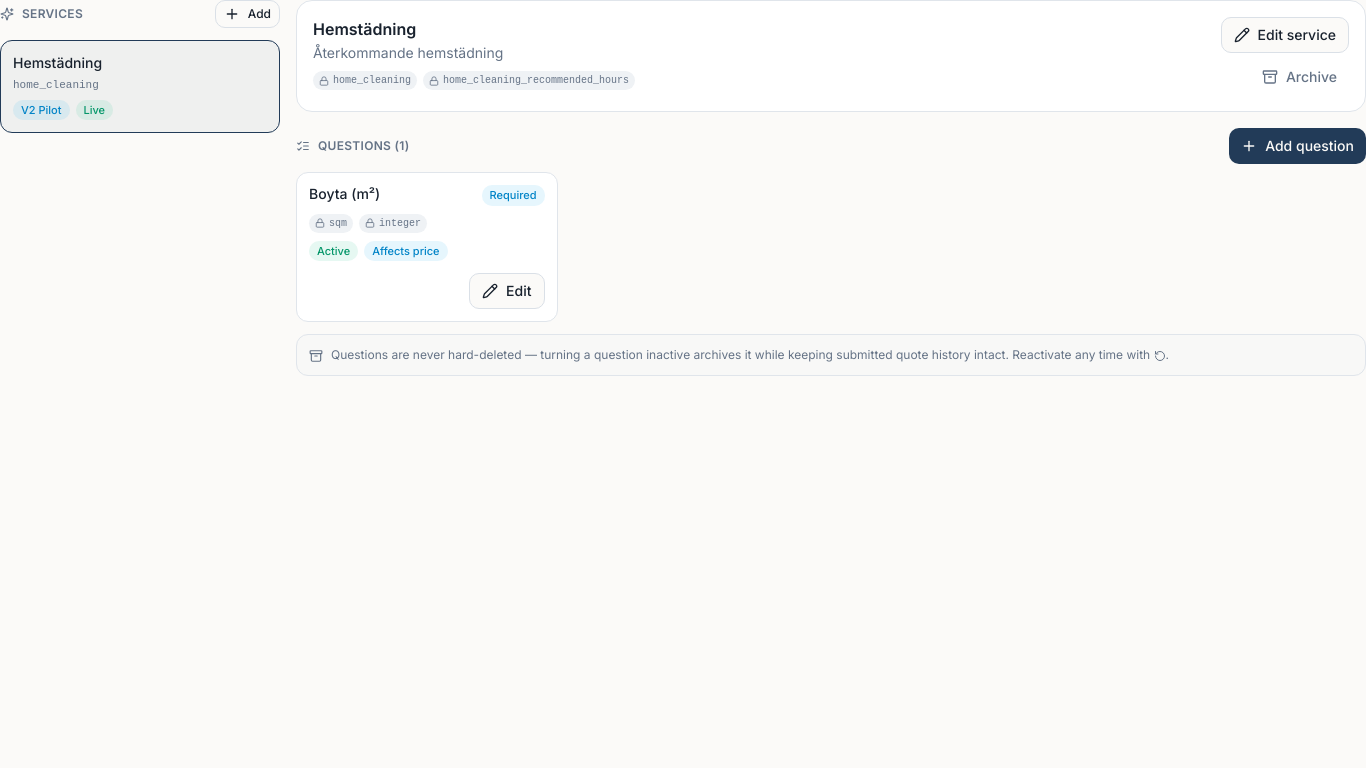
Scenario: ServicesFieldsEditor — GPM-3b add-service dialog (generic-only) › offers only the five generic pricing models — never a legacy/service-named model
Click the button "Add" at (247,14), box 215,0 -> 280,28
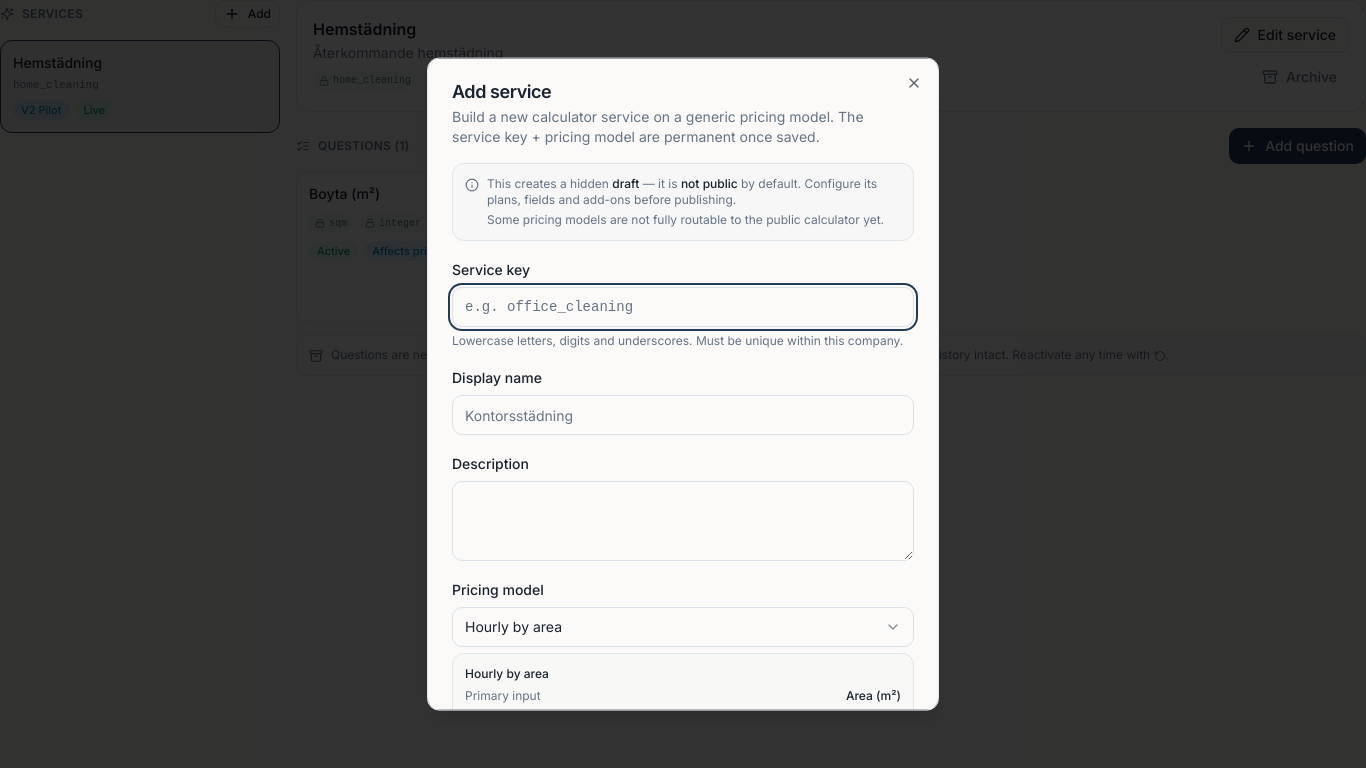
Click the dropdown at (514,626), box 452,607 -> 914,647
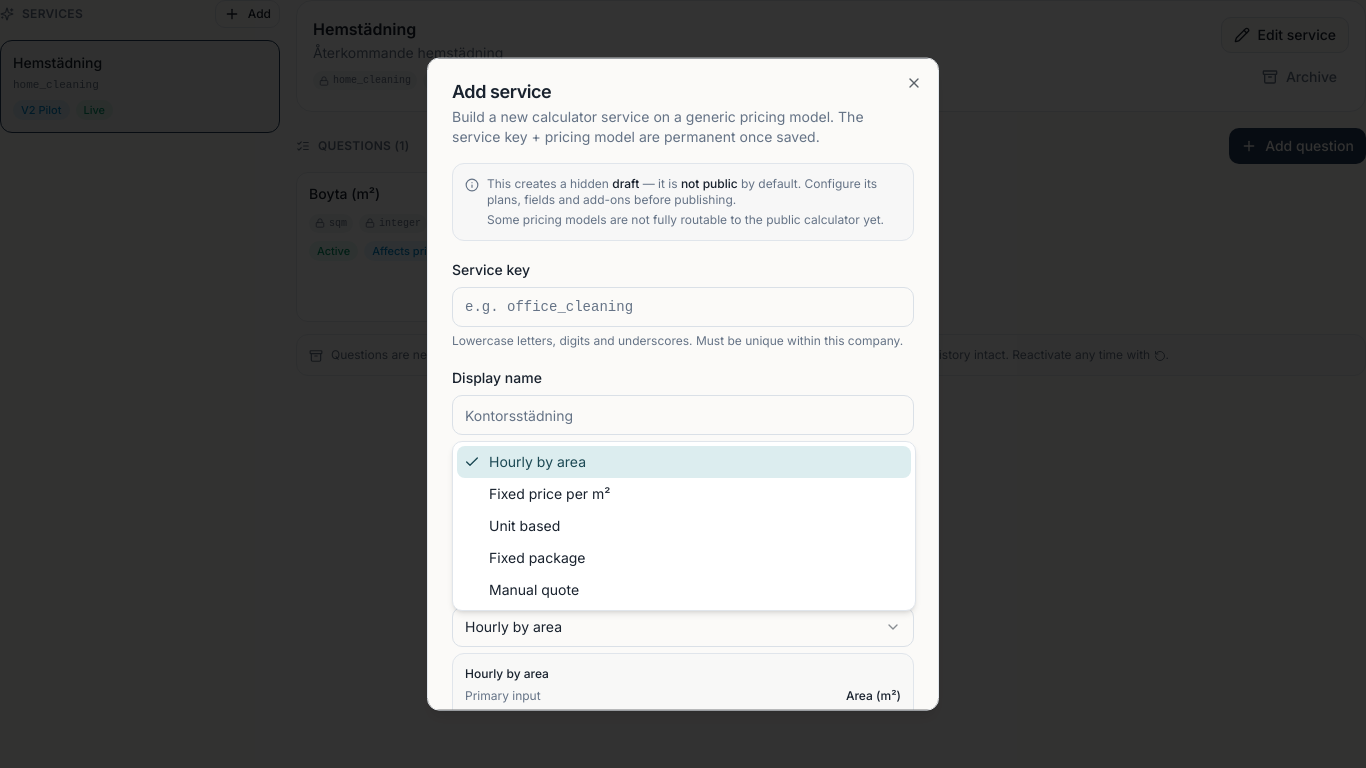
expect the option "Hourly by area" is shown: met, box 457,446 -> 911,478
expect the option "Fixed price per m²" is shown: met, box 489,485 -> 610,502
expect the option "Unit based" is shown: met, box 489,517 -> 560,534
